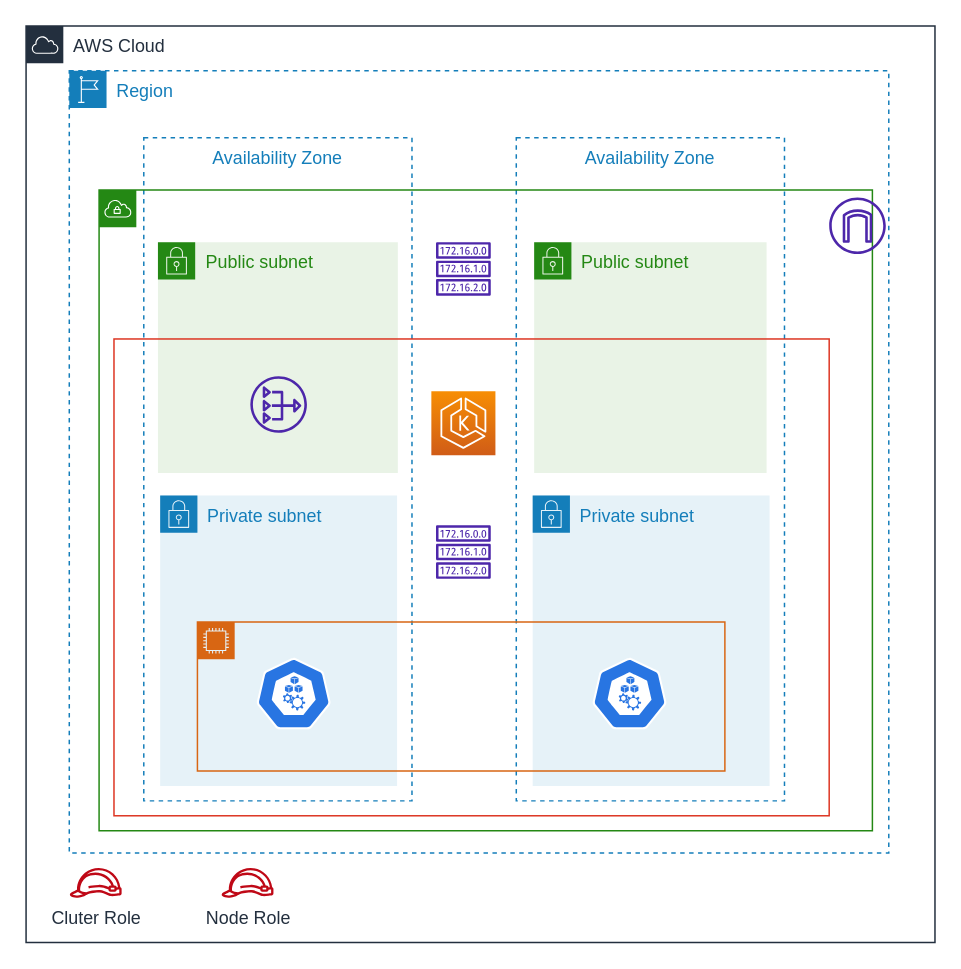
This 961x969 diagram has some shape labels left out. The box of each missing label's shape, as (x1, y1, x2, y2) in pixels:
EKS Node Group: (196, 621, 725, 771)
Security group: (112, 337, 829, 816)
VPC: (98, 188, 872, 831)
